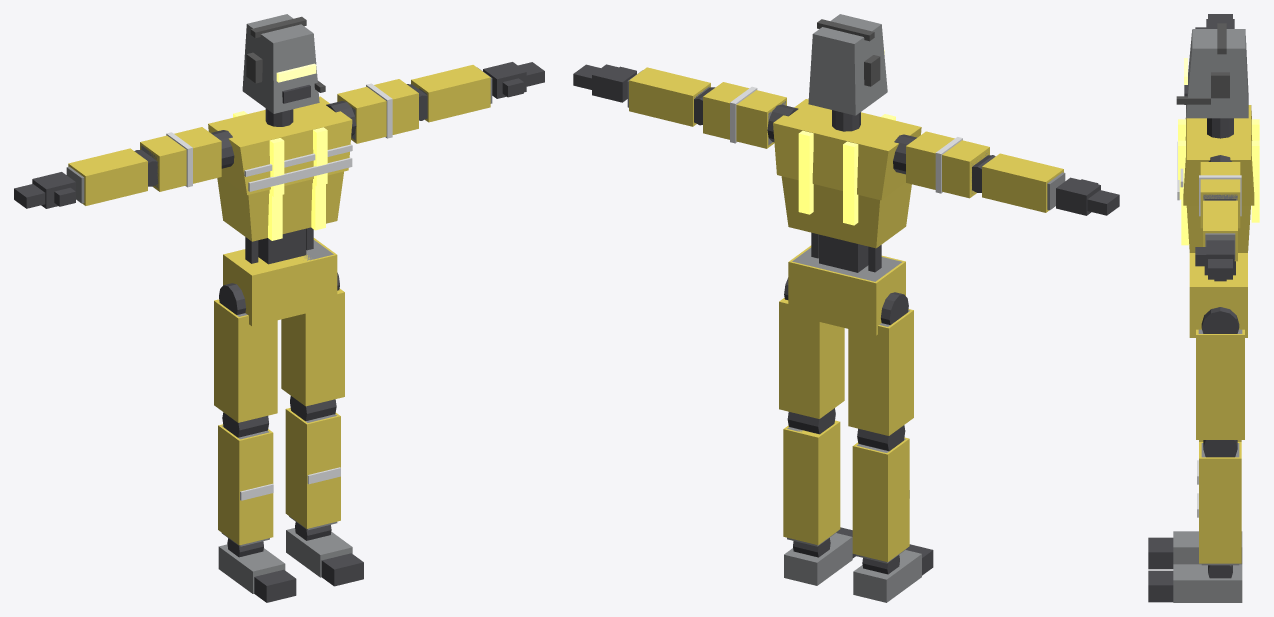
The model's file is char_F1_cargo_handler.glb.
The picture shows the model from 3 angles, left to right: view 1: azimuth 30°, elevation 25°; view 2: azimuth 150°, elevation 25°; view 3: azimuth 270°, elevation 25°; orthographic projection. The views are drawn at different scales.
Parts seen in each view (by area): view 1: UpperChest_mesh, RightUpperLeg_mesh, RightLowerLeg_mesh, LeftLowerLeg_mesh, Hips_mesh, Head_mesh, LeftUpperLeg_mesh, Chest_mesh, RightLowerArm_mesh, RightUpperArm_mesh, LeftUpperArm_mesh, LeftLowerArm_mesh (+7 smaller); view 2: UpperChest_mesh, RightUpperLeg_mesh, RightLowerLeg_mesh, LeftLowerLeg_mesh, Hips_mesh, Head_mesh, LeftUpperLeg_mesh, Chest_mesh, RightLowerArm_mesh, RightUpperArm_mesh, LeftUpperArm_mesh, LeftLowerArm_mesh (+5 smaller); view 3: LeftUpperLeg_mesh, Head_mesh, LeftLowerLeg_mesh, UpperChest_mesh, Hips_mesh, LeftFoot_mesh, LeftUpperArm_mesh, LeftLowerArm_mesh, Chest_mesh, LeftHand_mesh, RightFoot_mesh, LeftToes_mesh (+3 smaller).
Boxes of the visible parts, <box> form: UpperChest_mesh: <box>208,96,352,196</box>; RightUpperLeg_mesh: <box>214,283,277,422</box>; RightLowerLeg_mesh: <box>218,412,273,546</box>; LeftLowerLeg_mesh: <box>285,396,340,530</box>; Hips_mesh: <box>223,238,337,326</box>; Head_mesh: <box>242,14,325,113</box>; LeftUpperLeg_mesh: <box>281,272,344,406</box>; Chest_mesh: <box>217,171,343,241</box>; RightLowerArm_mesh: <box>66,148,157,205</box>; RightUpperArm_mesh: <box>140,127,221,191</box>; LeftUpperArm_mesh: <box>337,79,418,143</box>; LeftLowerArm_mesh: <box>407,65,492,122</box>; UpperChest_mesh: <box>773,99,921,225</box>; RightUpperLeg_mesh: <box>848,292,913,435</box>; RightLowerLeg_mesh: <box>852,425,909,563</box>; LeftLowerLeg_mesh: <box>783,408,840,546</box>; Hips_mesh: <box>788,245,905,335</box>; Head_mesh: <box>808,14,887,115</box>; LeftUpperLeg_mesh: <box>779,277,844,418</box>; Chest_mesh: <box>781,176,911,248</box>; RightLowerArm_mesh: <box>972,153,1065,212</box>; RightUpperArm_mesh: <box>906,131,989,198</box>; LeftUpperArm_mesh: <box>703,82,786,148</box>; LeftLowerArm_mesh: <box>627,67,715,126</box>; LeftUpperLeg_mesh: <box>1196,307,1244,439</box>; Head_mesh: <box>1176,23,1248,118</box>; LeftLowerLeg_mesh: <box>1197,440,1241,565</box>; UpperChest_mesh: <box>1177,105,1259,222</box>; Hips_mesh: <box>1189,253,1247,337</box>; LeftFoot_mesh: <box>1173,564,1242,602</box>; LeftUpperArm_mesh: <box>1199,162,1241,228</box>; LeftLowerArm_mesh: <box>1203,199,1237,261</box>; Chest_mesh: <box>1181,199,1250,252</box>; LeftHand_mesh: <box>1195,240,1234,279</box>; RightFoot_mesh: <box>1173,531,1242,564</box>; LeftToes_mesh: <box>1148,570,1173,602</box>.
Size of the model in its own units: 1.92 by 1.91 by 0.355.
